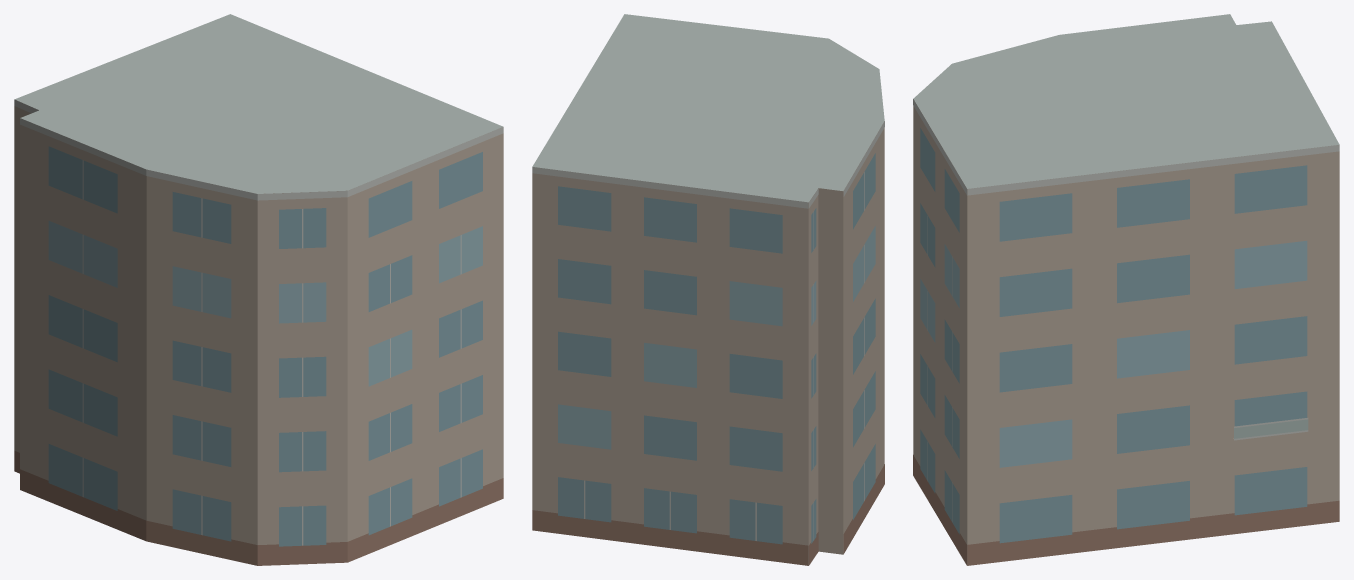
Rendered from survey-upis-32767900.glb.
3 renders of one model, left to right at view 1: azimuth 30°, elevation 25°; view 2: azimuth 150°, elevation 25°; view 3: azimuth 270°, elevation 25°, orthographic. The views are drawn at different scales.
Parts seen in each view (by area): view 1: survey-upis-32767900.tmp; view 2: survey-upis-32767900.tmp; view 3: survey-upis-32767900.tmp.
Part boxes in pixels (x1,y1,x2,y2): survey-upis-32767900.tmp: (14, 14, 503, 565); survey-upis-32767900.tmp: (532, 14, 884, 565); survey-upis-32767900.tmp: (913, 14, 1339, 565).
Bounding box in the file's own units: 13.85 × 13.9 × 14.26.
